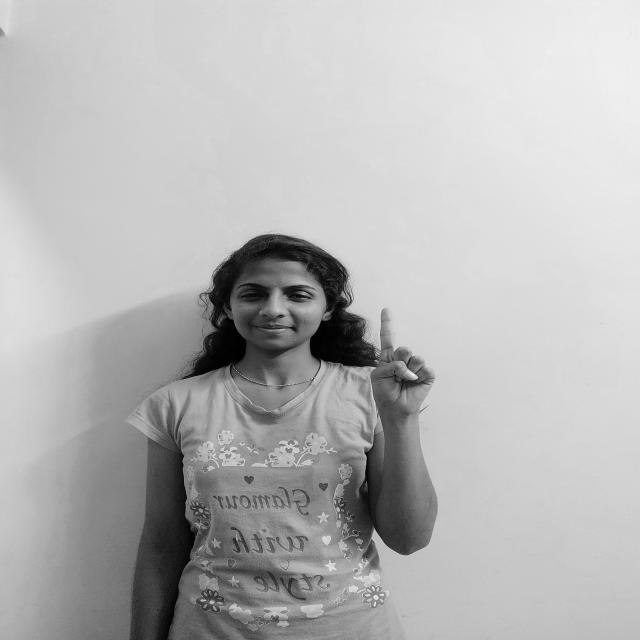Question: (366, 298, 442, 431)
